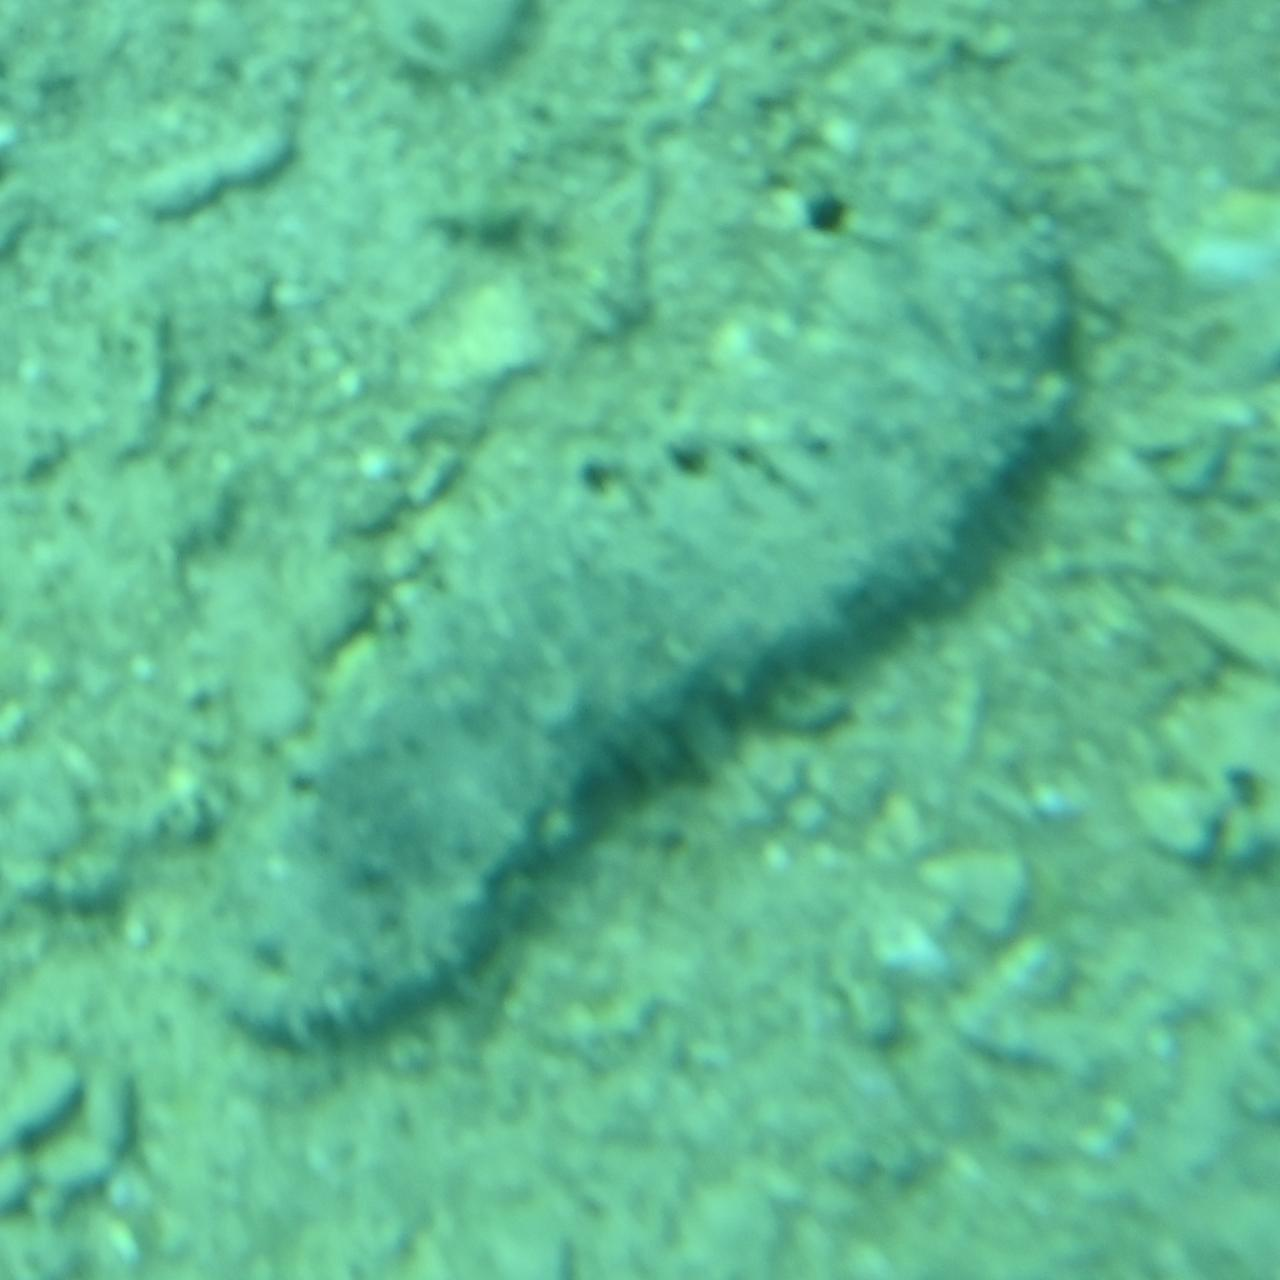Holothuria tubulosa: (160, 200, 1120, 1080)
